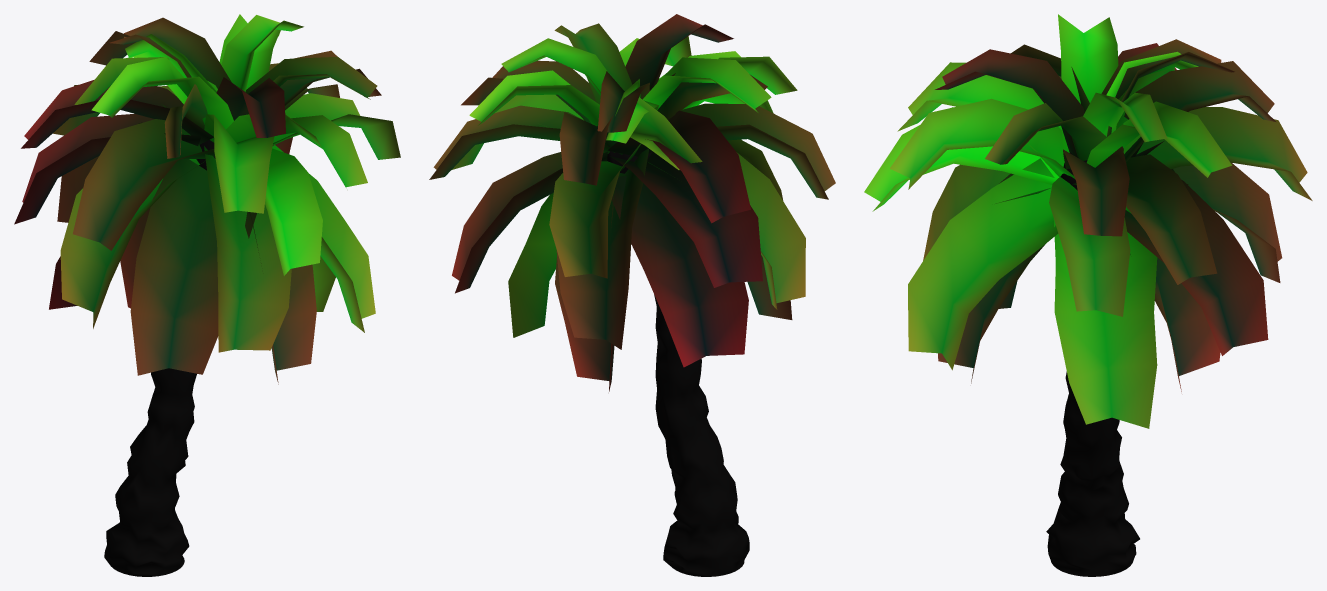
The model's file is SM_Palm5_6.fbx.
The picture shows the model from 3 angles, left to right: view 1: azimuth 30°, elevation 25°; view 2: azimuth 150°, elevation 25°; view 3: azimuth 270°, elevation 25°; orthographic projection. The views are drawn at different scales.
Parts seen in each view (by area): view 1: SM_Palm5_6; view 2: SM_Palm5_6; view 3: SM_Palm5_6.
Boxes of the visible parts, <box> form: SM_Palm5_6: <box>14,14,400,576</box>; SM_Palm5_6: <box>429,14,835,576</box>; SM_Palm5_6: <box>864,14,1312,576</box>.
Bounding box in the file's own units: 901 × 1237 × 931.
